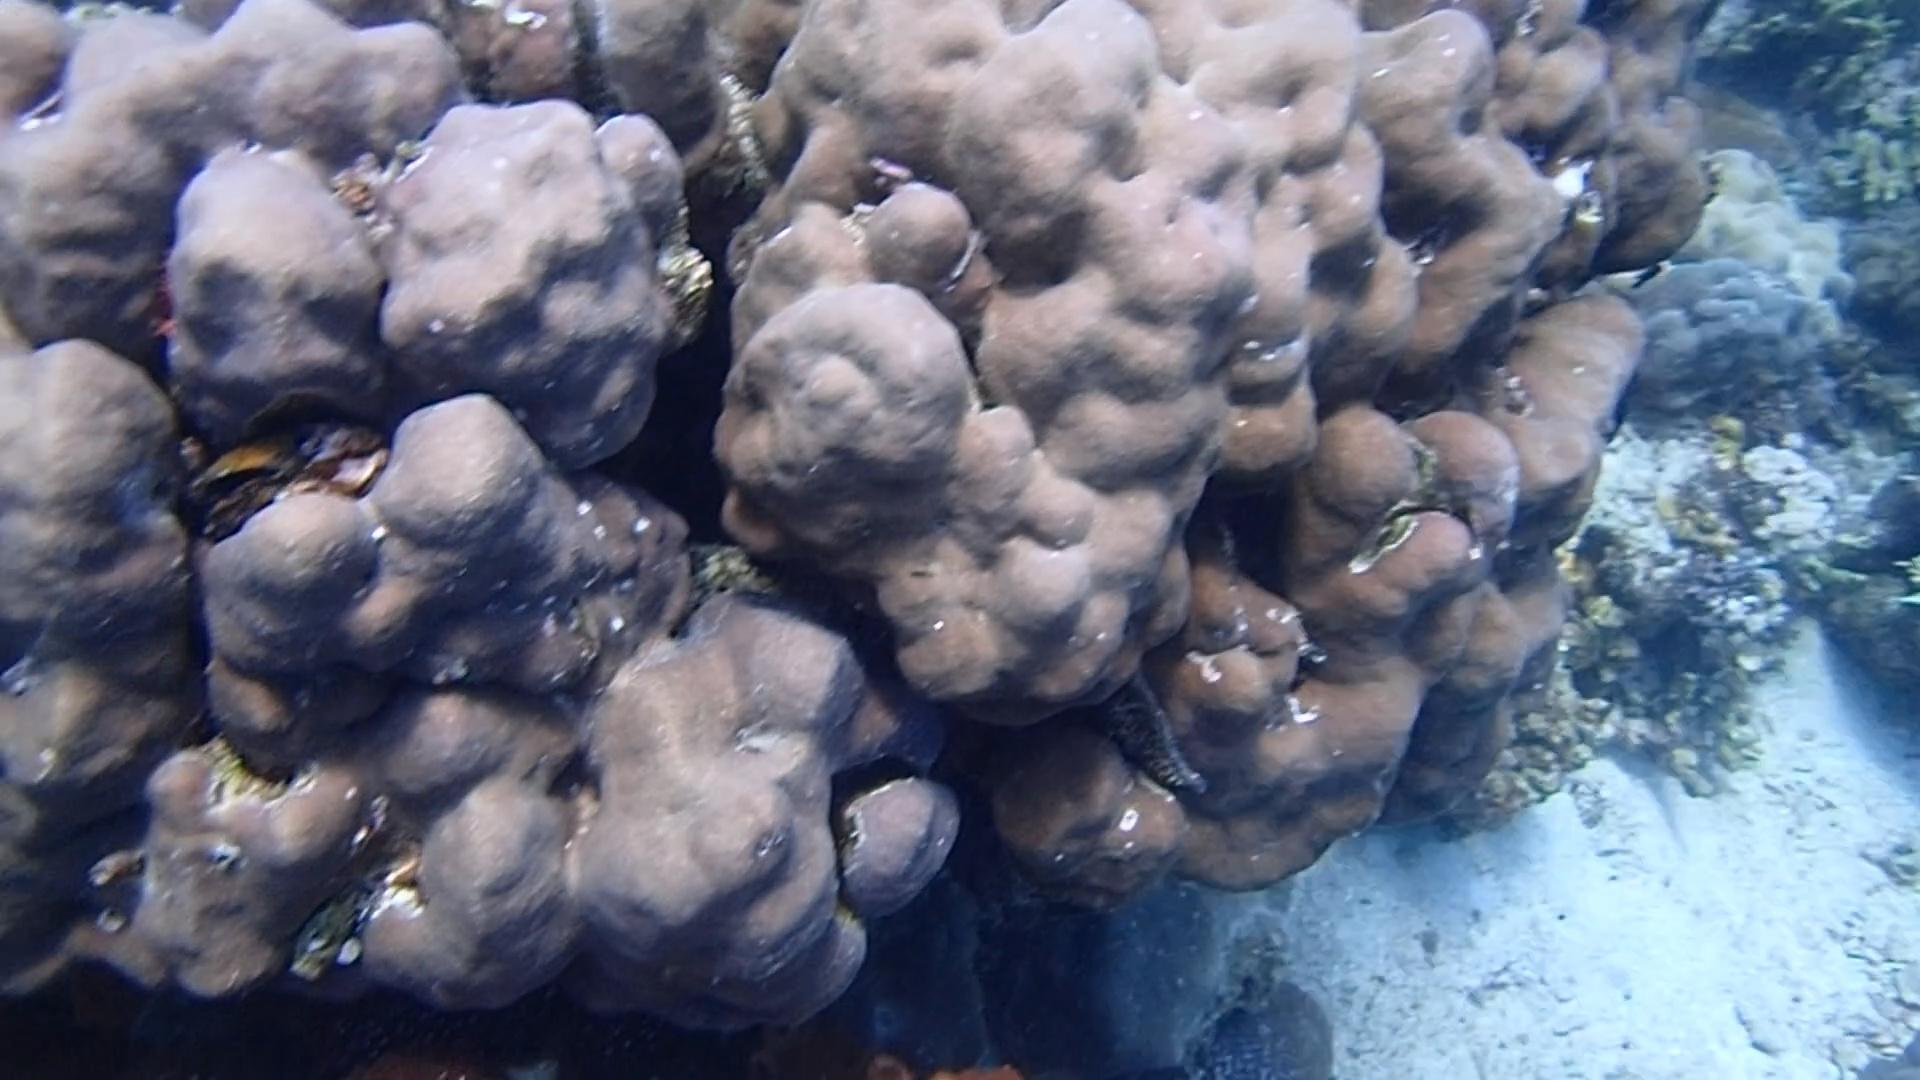Dark Fish: (1629, 256, 1665, 299)
